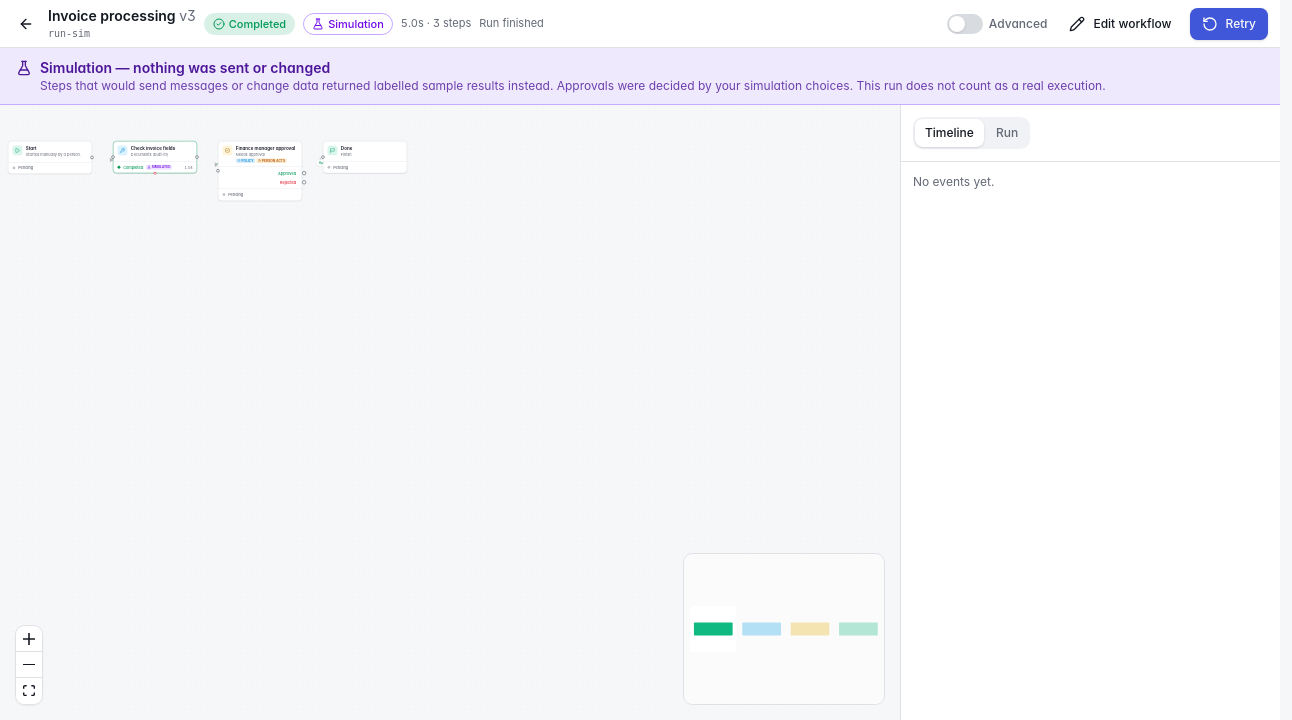
Scenario: simulation runs › marks simulation runs and simulated step outputs
The width and height of the screenshot is (1292, 720).
Expected: the message with test id "simulation-banner" shows "Simulation — nothing was sent or changed", [40,59,330,76]
Expected: the element with test id "simulated-badge" is shown, [146,165,172,170]
Note: plain click (d3-zoom's mousedown handler needs a real window view)
Click the text "Check invoice fields" at x=153, y=148, box [131,145,175,152]
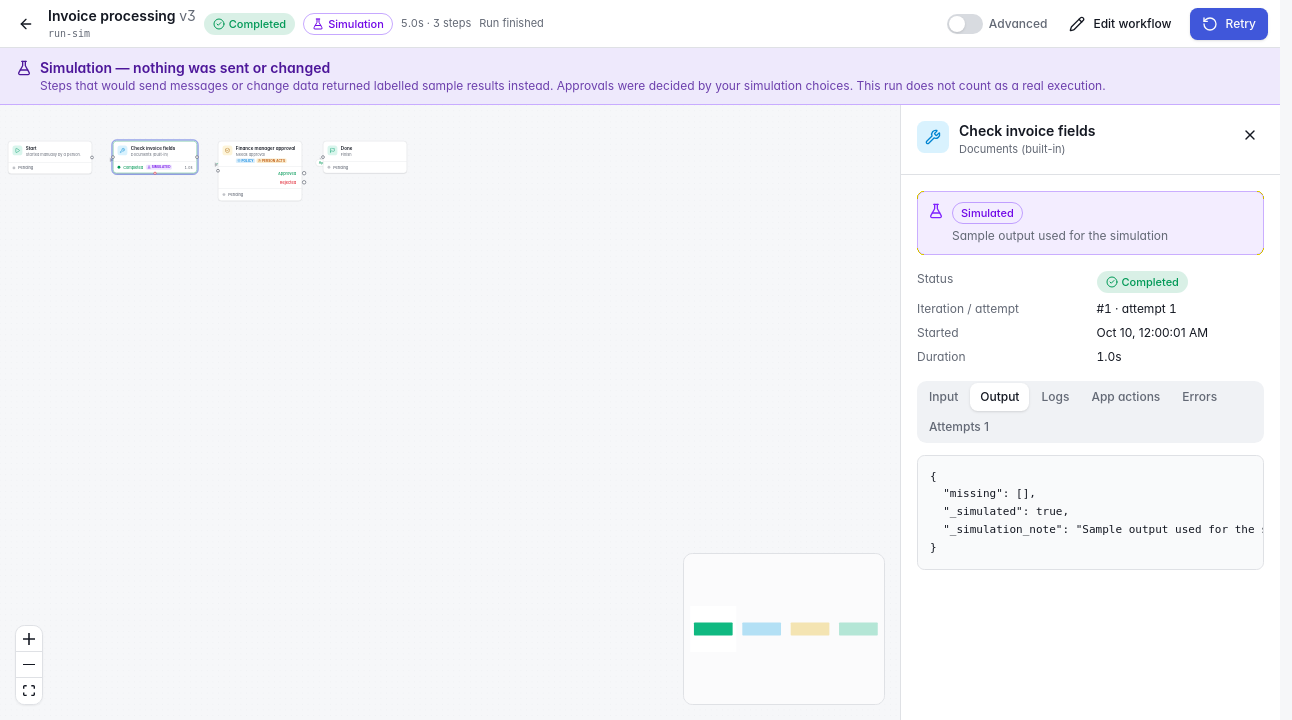
Expected: the element with test id "node-simulated" shows "Sample output used for the simulation", [952,228,1168,242]
